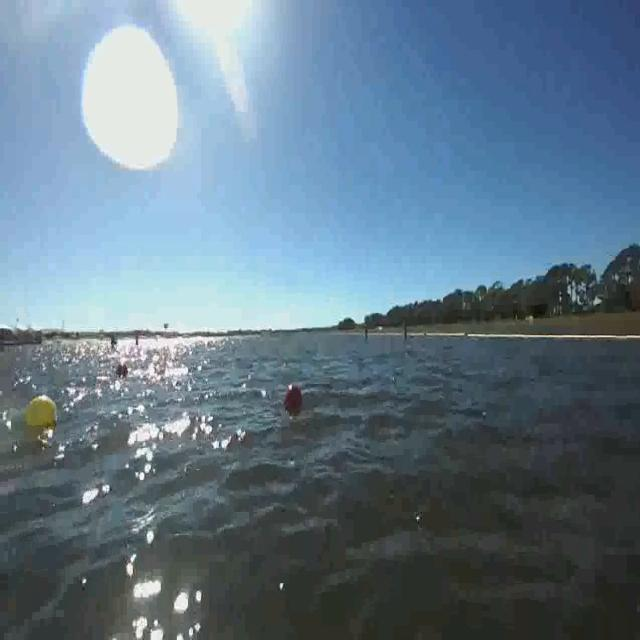red-buoy: (284, 379, 304, 411)
yellow-buoy: (25, 394, 60, 429)
